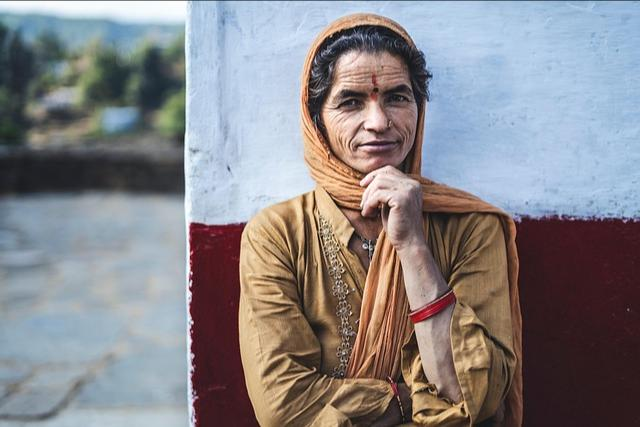Non_Gorille: (184, 4, 576, 402)
